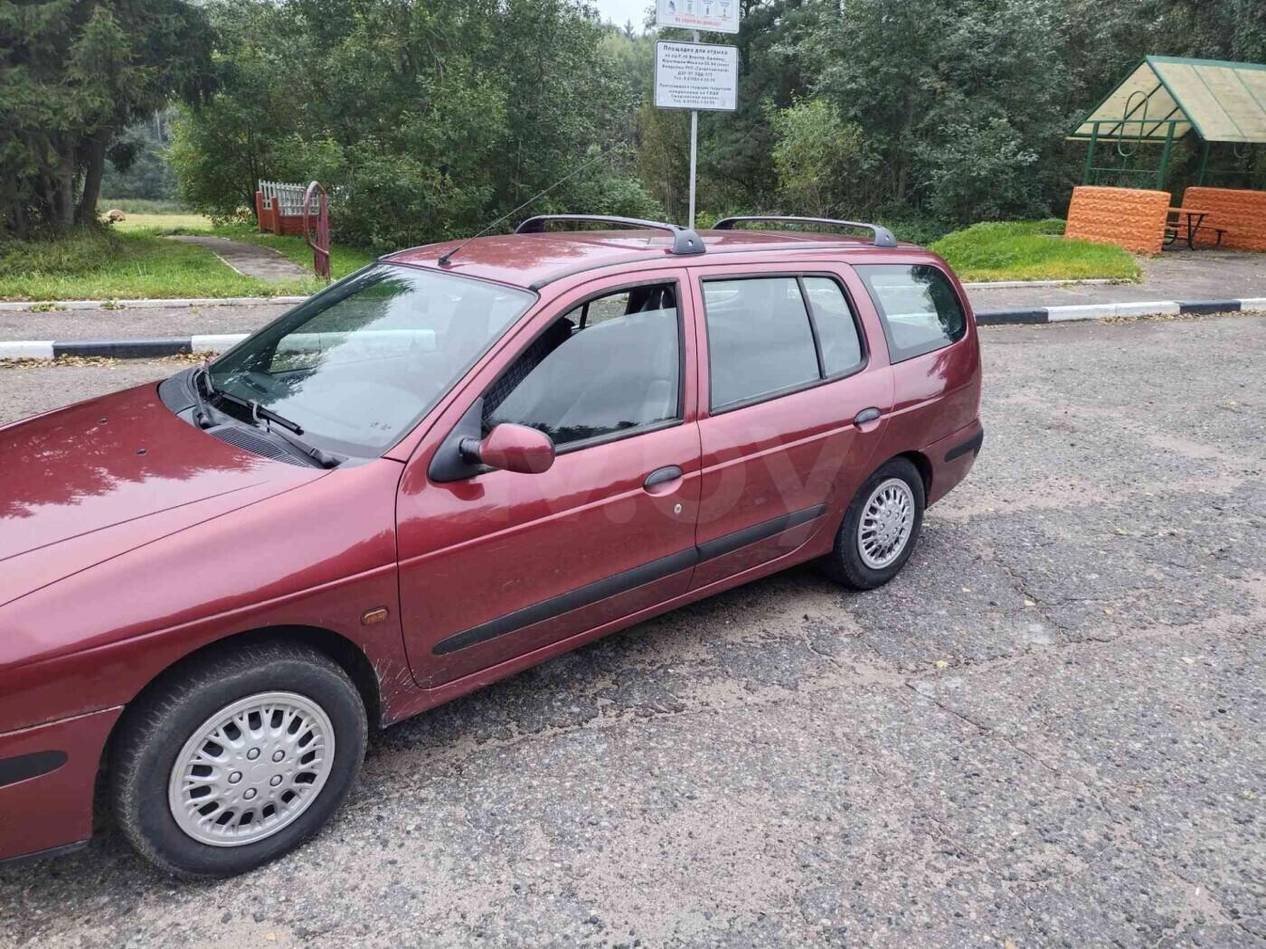Megane_1999-2003: (0, 207, 988, 883)
